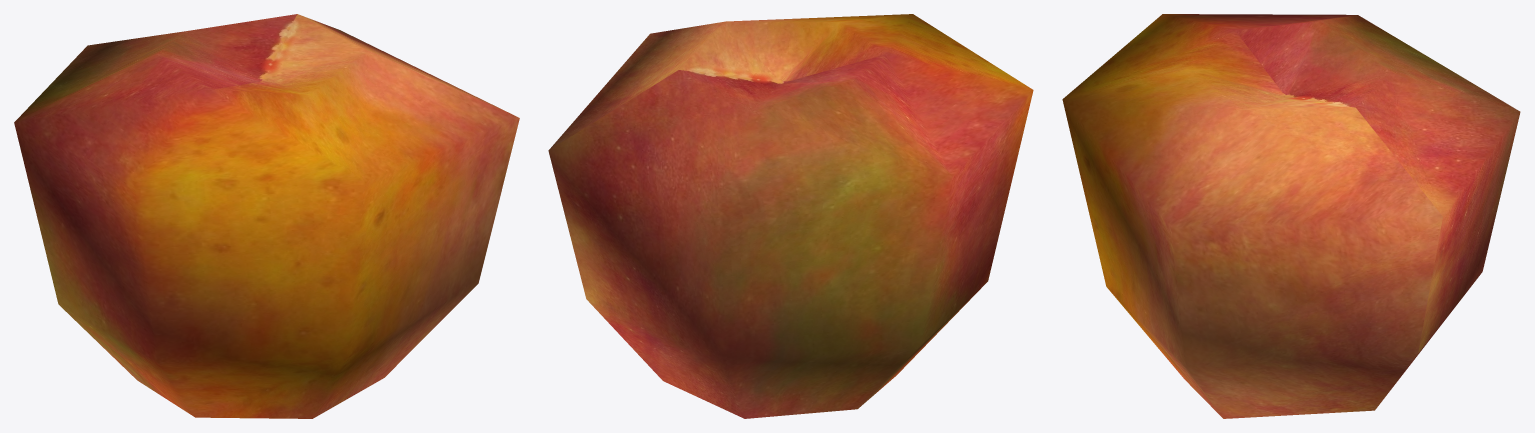
File: Pomme_low_poly.FBX
3 views of the same model, side by side, from view 1: azimuth 30°, elevation 25°; view 2: azimuth 150°, elevation 25°; view 3: azimuth 270°, elevation 25° (orthographic). The views are drawn at different scales.
Visible parts, largest first — view 1: Pomme; view 2: Pomme; view 3: Pomme.
Part boxes in pixels (box(x1,y1,x2,y2)): Pomme: box(14, 14, 519, 418); Pomme: box(548, 14, 1033, 418); Pomme: box(1062, 14, 1520, 418).
Bounding box in the file's own units: 3.32 × 2.64 × 3.38.
